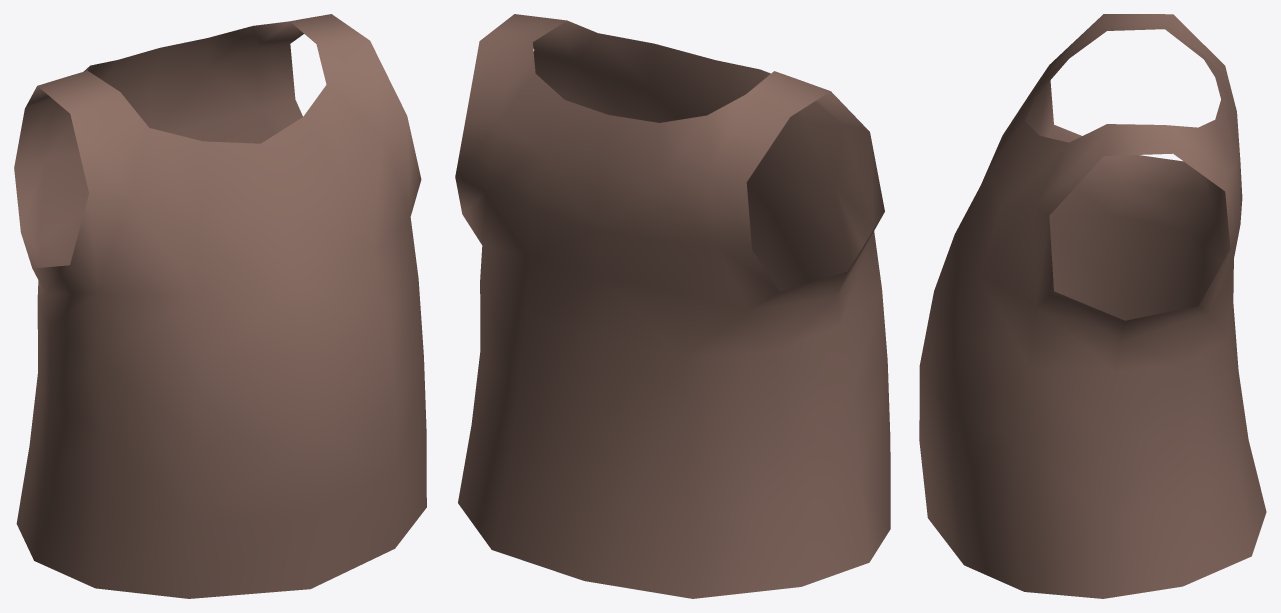
File: Outerwear_Brown_002.glb
3 renders of one model, left to right at view 1: azimuth 30°, elevation 25°; view 2: azimuth 150°, elevation 25°; view 3: azimuth 270°, elevation 25°, orthographic. The views are drawn at different scales.
Visible parts, largest first — view 1: Outerwear_Brown_002; view 2: Outerwear_Brown_002; view 3: Outerwear_Brown_002.
Boxes of the visible parts, x1,y1,x2,y2 form: Outerwear_Brown_002: [14, 14, 426, 598]; Outerwear_Brown_002: [455, 14, 890, 598]; Outerwear_Brown_002: [919, 14, 1266, 598].
Size of the model in its own units: 0.4413 by 0.5137 by 0.3665.
Materials: 1 (1 with a texture image).
